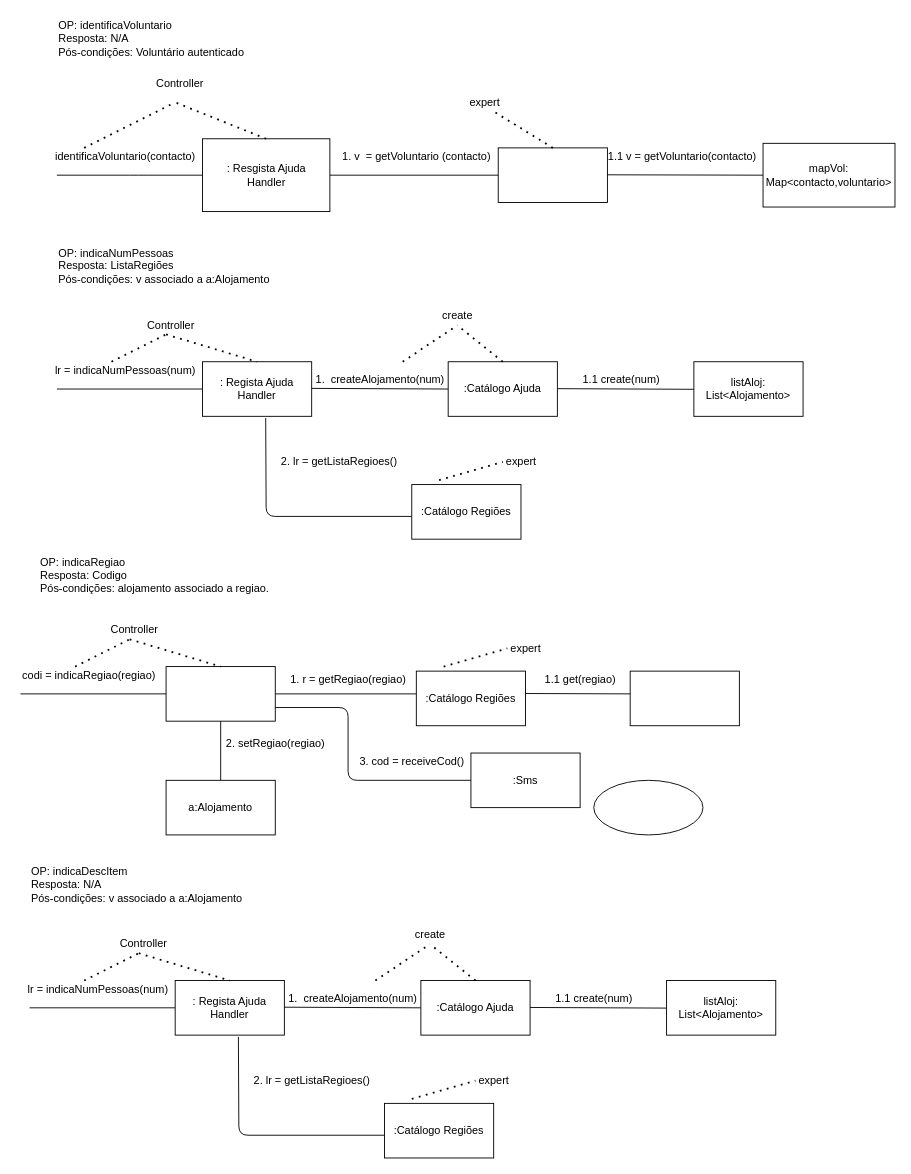
This 911x1174 diagram has some shape labels left out. The centre of each missing label's shape, as x and y in pixels:
:Catálogo Voluntário: the point at 552,174
:Regista Ajuda Handler: the point at 220,693
listRegioes: List<Regiao>: the point at 684,698
not sure sobre o ponto 3: the point at 648,807
